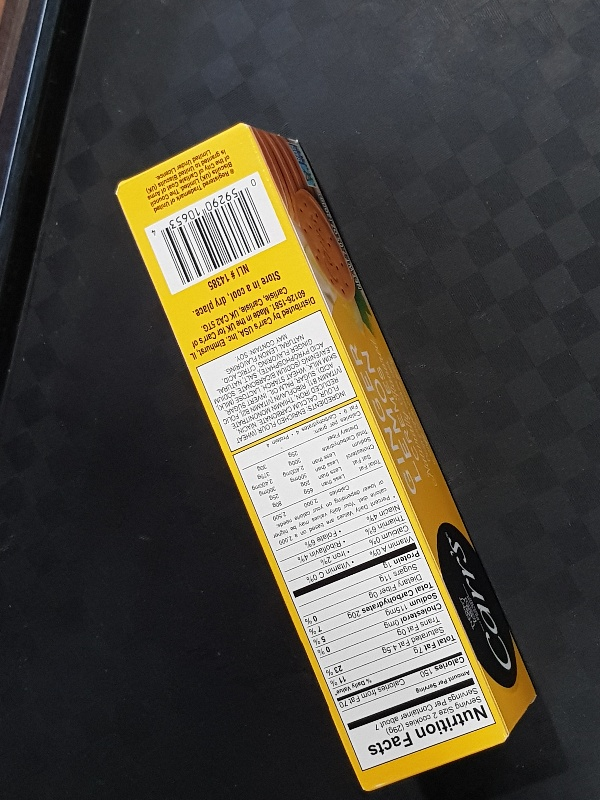Carr's Ginger Lemon Cremes: (115, 120, 539, 792)
